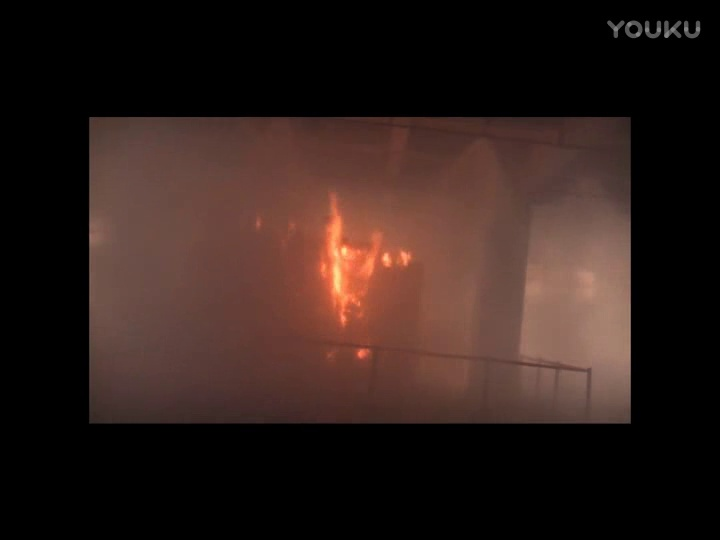fire: (324, 205, 373, 323)
